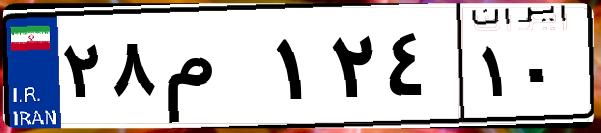0: (525, 38, 570, 115)
1: (270, 28, 330, 110), (475, 38, 525, 113)
2: (330, 28, 385, 110), (57, 26, 110, 100)
4: (385, 28, 445, 110)
8: (110, 28, 158, 98)
م: (158, 20, 270, 120)
